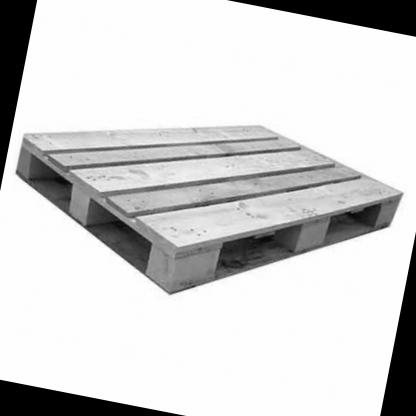BoxFace: (10, 124, 407, 296)
